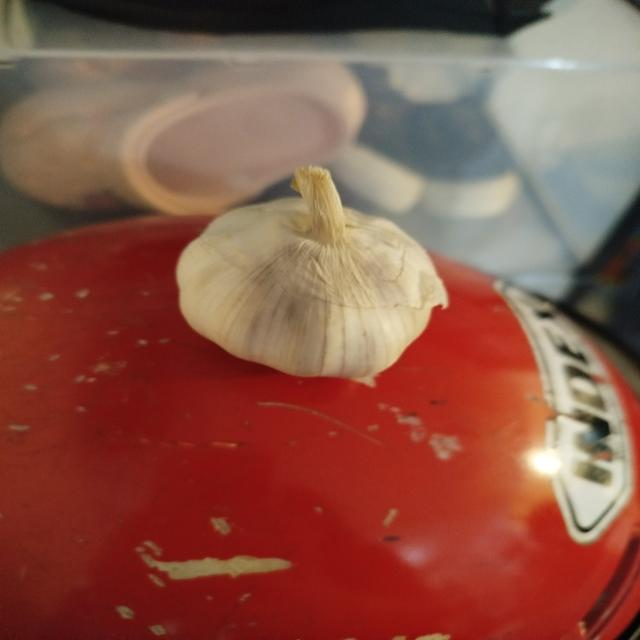garlic: (175, 164, 450, 387)
